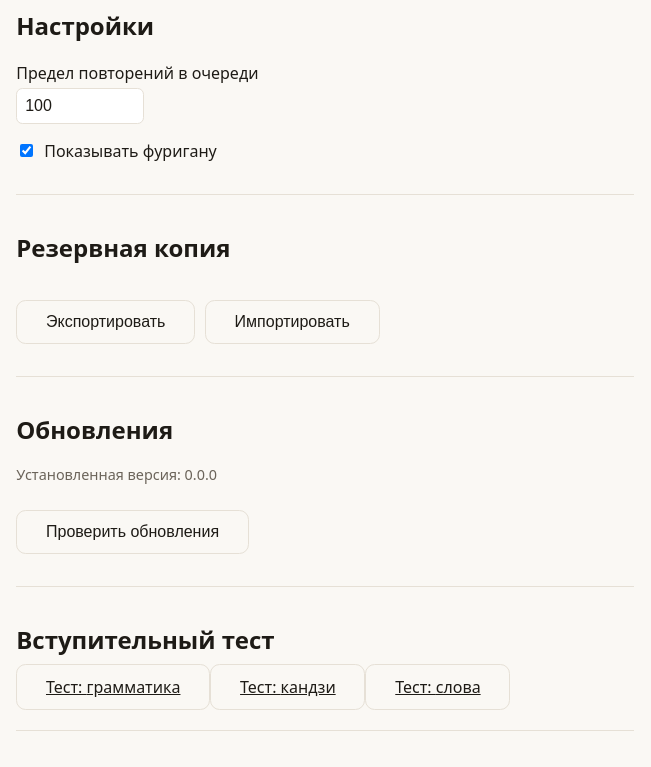
Test: SettingsScreen › shows an error status when export fails
The width and height of the screenshot is (651, 767).
Click the button "Экспортировать" at (106, 322), box [16,300,195,344]
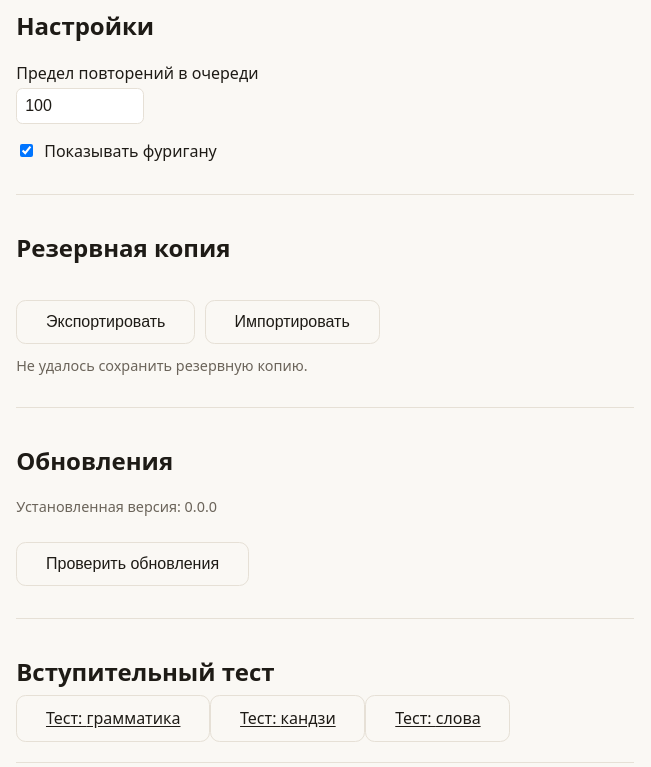
Expected: the text "Не удалось сохранить резервную копию." is shown, [16,356,308,375]
